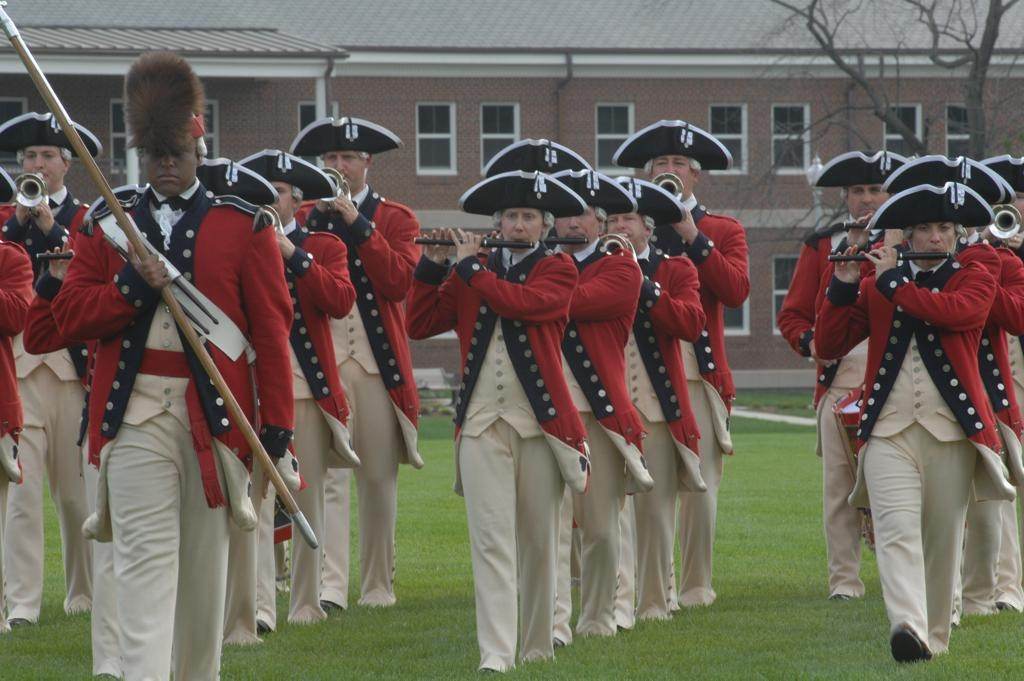human_face: (142, 129, 196, 194), (556, 194, 598, 252), (912, 210, 954, 264), (501, 197, 541, 251), (847, 174, 889, 222), (24, 136, 64, 186), (252, 173, 292, 223), (606, 200, 644, 252), (652, 146, 692, 194), (323, 144, 365, 188), (994, 180, 1024, 231)
